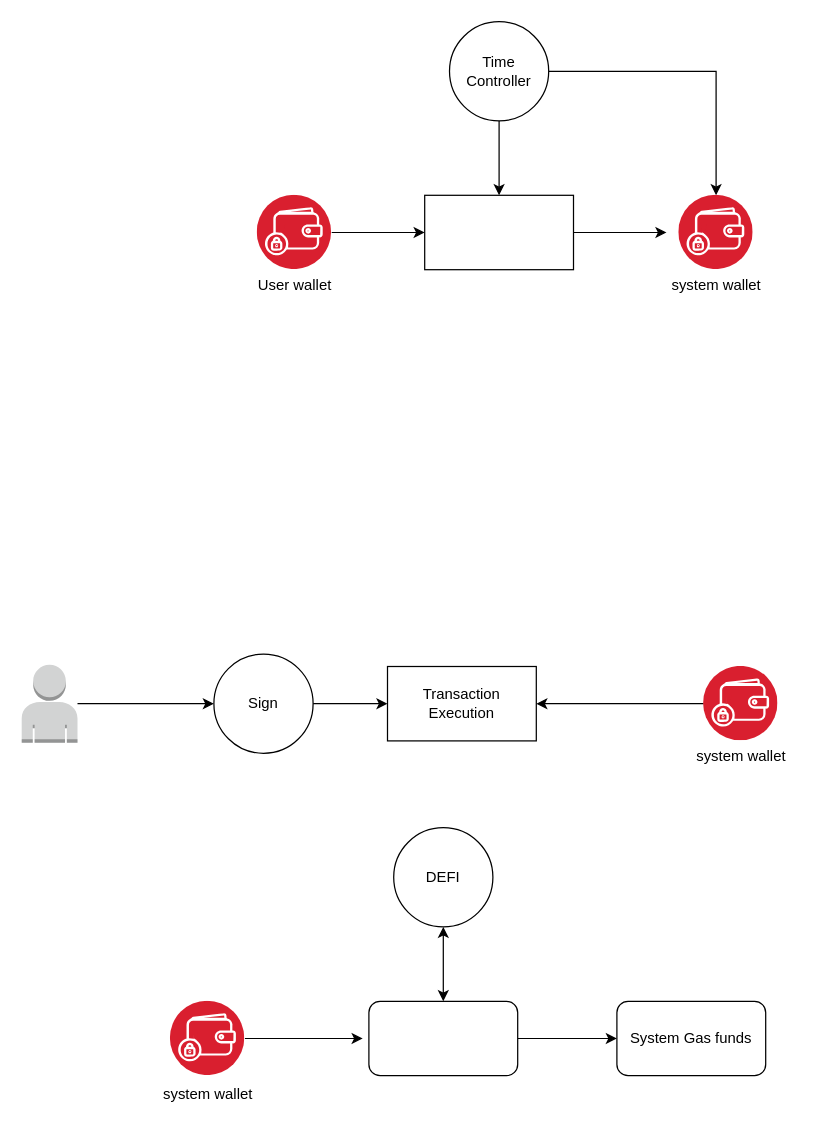
Image size: 825x1135. Some labels were removed from this diagram. Here are the shapes that lost their labels. From the top down, the centre of each, then its label:
the point at 498,232: Fund approval
the point at 443,1038: Fund Controller
